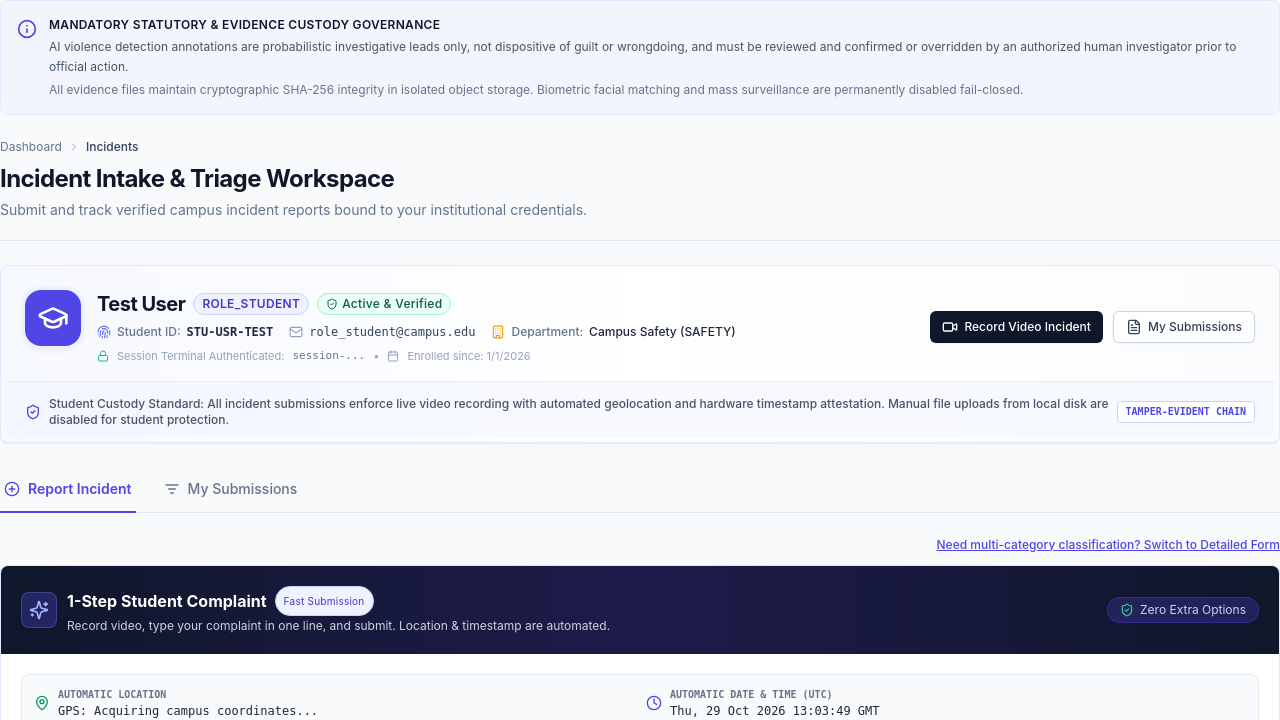
Scenario: IncidentsPage Component & Role Scoping › switches tabs cleanly between Report Incident and My Submissions for a student
The width and height of the screenshot is (1280, 720).
Expected: the heading "1-Step Student Complaint Fast Submission" is shown, x1=67 y1=586 x2=374 y2=616
Click My Submissions tab in nav
Click the 2nd button "My Submissions". click: point(230, 490)
box: x1=160 y1=466 x2=301 y2=512
(page scrolled)
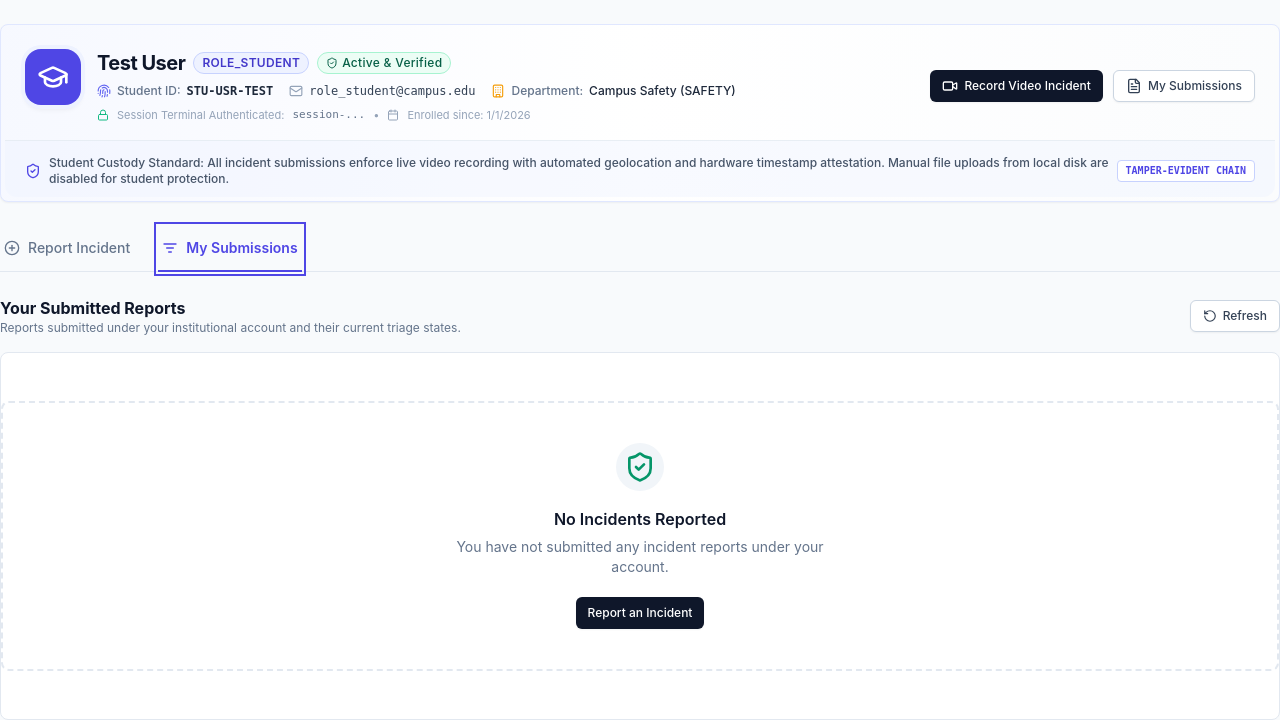
Expected: the heading "Your Submitted Reports" is shown, x1=0 y1=298 x2=186 y2=318
Expected: the heading "No Incidents Reported" is shown, x1=554 y1=506 x2=726 y2=530
